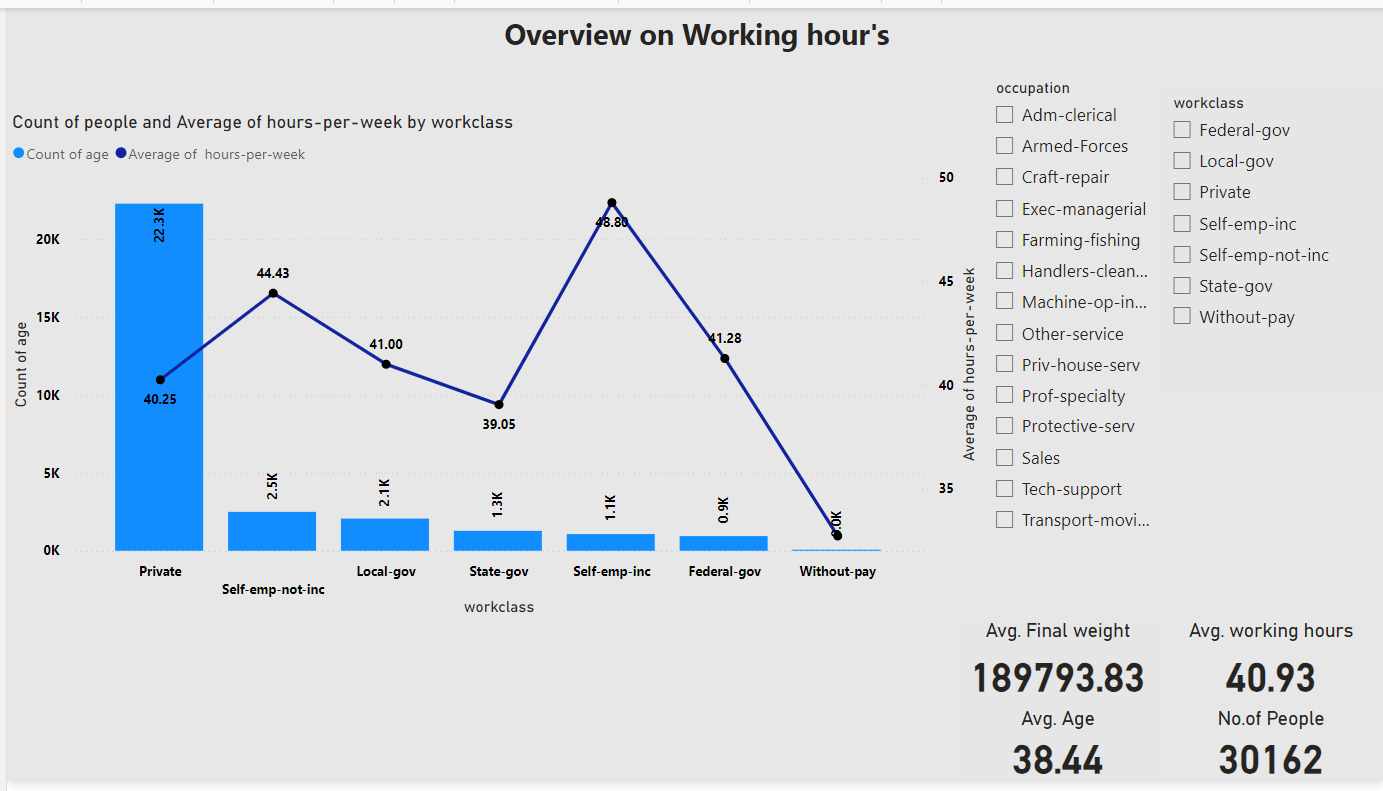

What the dashboard file says about the page in this screenshot:
{"tool":"powerbi","page":{"name":"working hours","canvas":[1280,720],"ordinal":2},"visuals":[{"type":"lineStackedColumnComboChart","fields":{"Category":["income_evaluation. workclass"],"Y":["CountNonNull(income_evaluation.age)"],"Y2":["Avg(income_evaluation. hours-per-week)"]},"box":[0,94.9,907.8,474.3],"z":0},{"type":"slicer","fields":{"Values":["income_evaluation. occupation"]},"box":[907.2,60.1,164.8,441.9],"z":1000},{"type":"card","title":"No.of People","fields":{"Values":["CountNonNull(income_evaluation.age)"]},"box":[1072.5,650,207.5,70],"z":2000},{"type":"textbox","box":[0,0,1280.2,60.5],"z":3000},{"type":"card","title":"Avg. working hours","fields":{"Values":["Avg(income_evaluation. hours-per-week)"]},"box":[1072.5,568.8,207.5,81.2],"z":4000},{"type":"card","title":"Avg. Age","fields":{"Values":["Avg(income_evaluation.age)"]},"box":[882.5,650,190,70],"z":9000},{"type":"card","title":"Avg. Final weight","fields":{"Values":["Avg(income_evaluation. fnlwgt)"]},"box":[882.5,568.8,190,81.2],"z":11000},{"type":"slicer","fields":{"Values":["income_evaluation. workclass"]},"box":[1072.3,74.4,207.7,285.8],"z":12000}]}

Visuals, with their boxes in screenshot pixels (x1, y1, x2, y2), scaled from the page's 1280x720 canvas onto the 1383x791 screenshot:
lineStackedColumnComboChart - income_evaluation. workclass x CountNonNull(income_evaluation.age): region(0, 104, 981, 625)
slicer - income_evaluation. occupation: region(980, 66, 1158, 552)
"No.of People" card: region(1159, 714, 1382, 790)
textbox: region(0, 0, 1382, 66)
"Avg. working hours" card: region(1159, 625, 1382, 714)
"Avg. Age" card: region(954, 714, 1159, 790)
"Avg. Final weight" card: region(954, 625, 1159, 714)
slicer - income_evaluation. workclass: region(1159, 82, 1382, 396)
